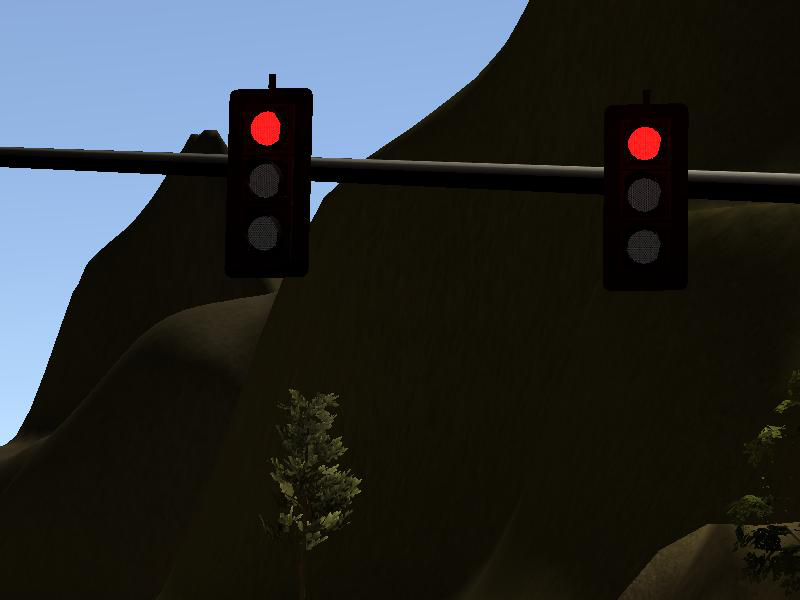red: (605, 104, 689, 291), (232, 90, 312, 275)
